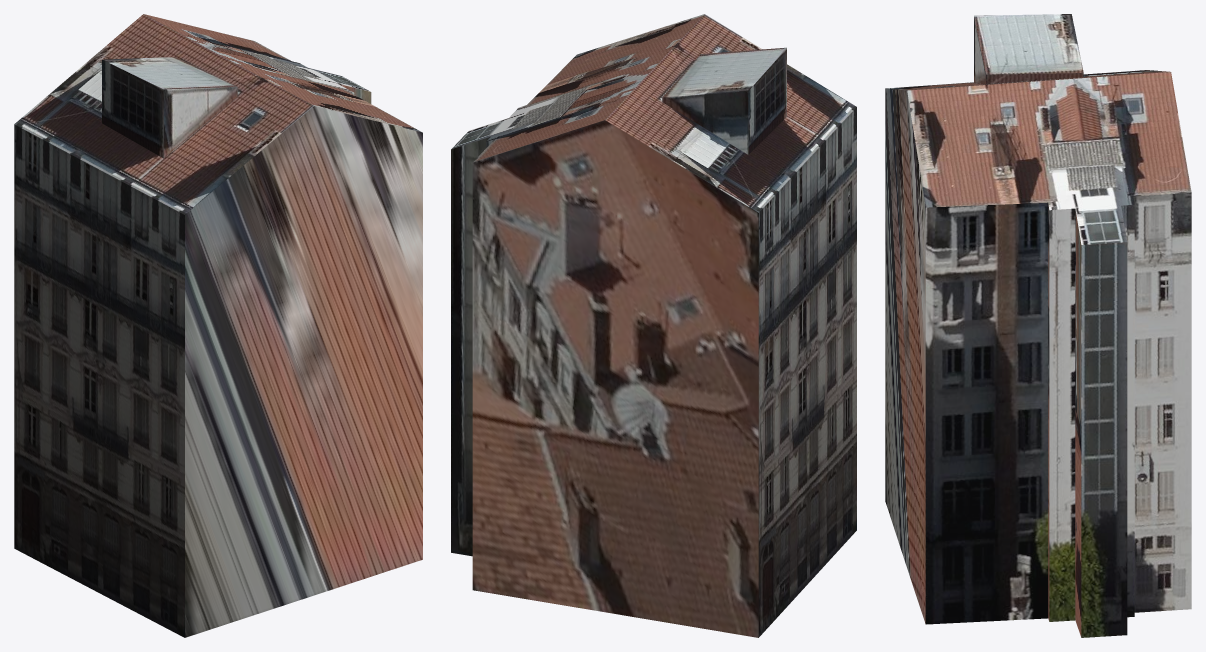
3 renders of one model, left to right at view 1: azimuth 30°, elevation 25°; view 2: azimuth 150°, elevation 25°; view 3: azimuth 270°, elevation 25°, orthographic. The views are drawn at different scales.
Parts seen in each view (by area): view 1: Z_UP; view 2: Z_UP; view 3: Z_UP.
Boxes of the visible parts, left/top/right/bottom form: Z_UP: left=14, top=14, right=422, bottom=637; Z_UP: left=451, top=14, right=856, bottom=637; Z_UP: left=885, top=14, right=1191, bottom=637.
Bounding box in the file's own units: 18.4 × 27.71 × 15.47.
2 materials, 1 textured.
